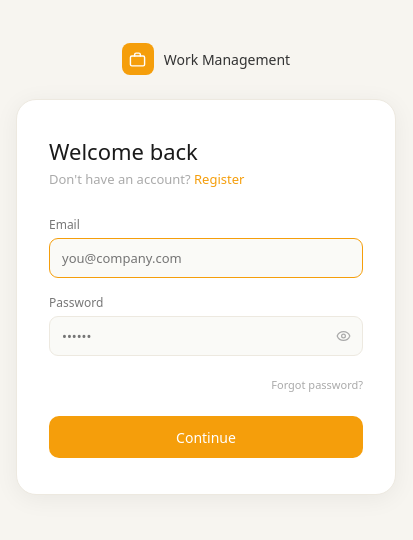
Test: LoginPage Component › shows error validation message when email or password is empty
Click the button "Continue" at (206, 437), box [49,416,363,458]
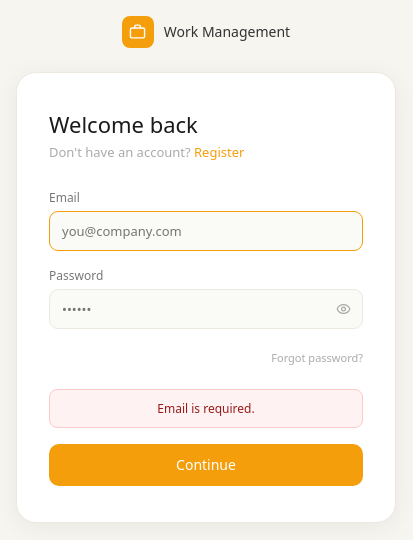
Now the message shows "Email is required", box [157,400,255,416]
// Enter email but not password
Type "test@company.com" into the field labelled "Email" at (206, 230), box [49,210,363,250]
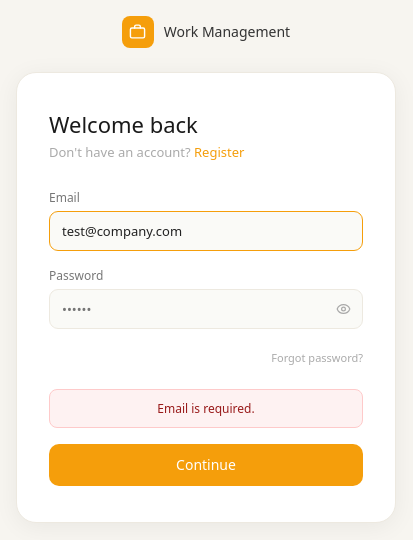
Click the button "Continue" at (206, 464), box [49,444,363,486]
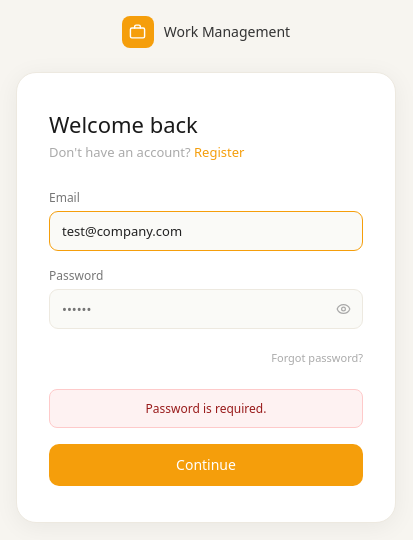
Now the message shows "Password is required", box [146,400,266,416]
